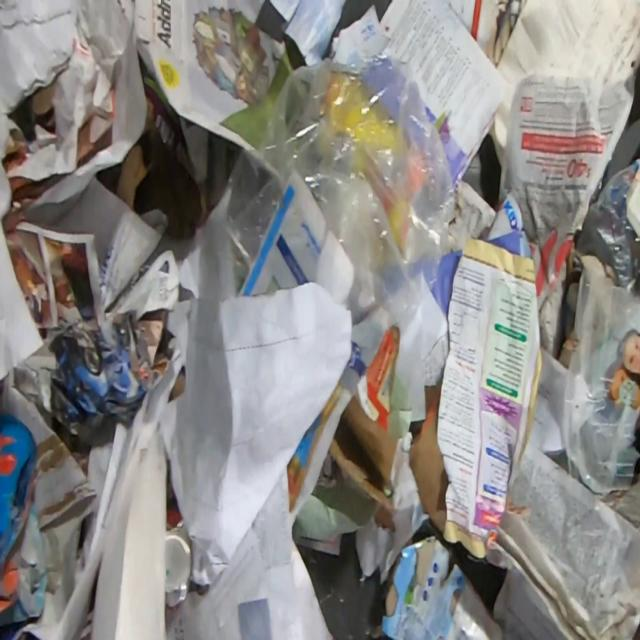cardboard: (130, 0, 297, 149), (368, 531, 506, 640), (95, 111, 203, 239), (327, 396, 400, 532), (407, 374, 448, 537), (355, 324, 400, 431), (22, 80, 56, 134)
metal: (163, 518, 192, 608)
soft_plastic: (196, 46, 456, 366), (560, 263, 640, 495), (574, 157, 640, 293)
